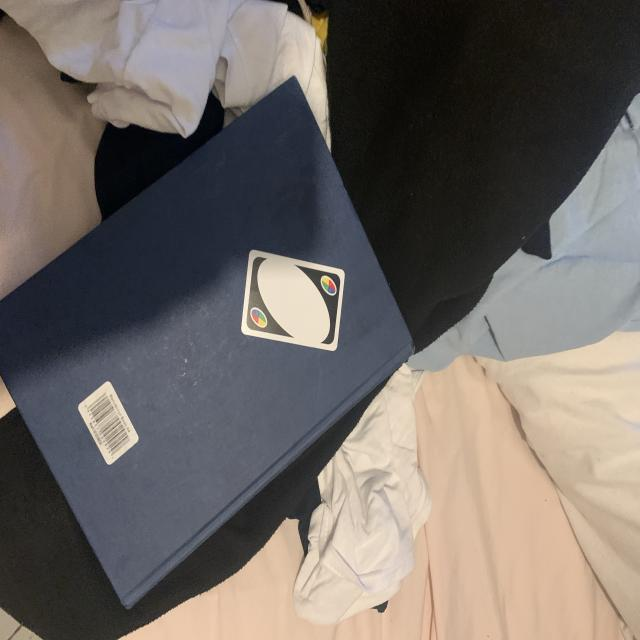lcolor-40: (319, 272, 340, 300)
